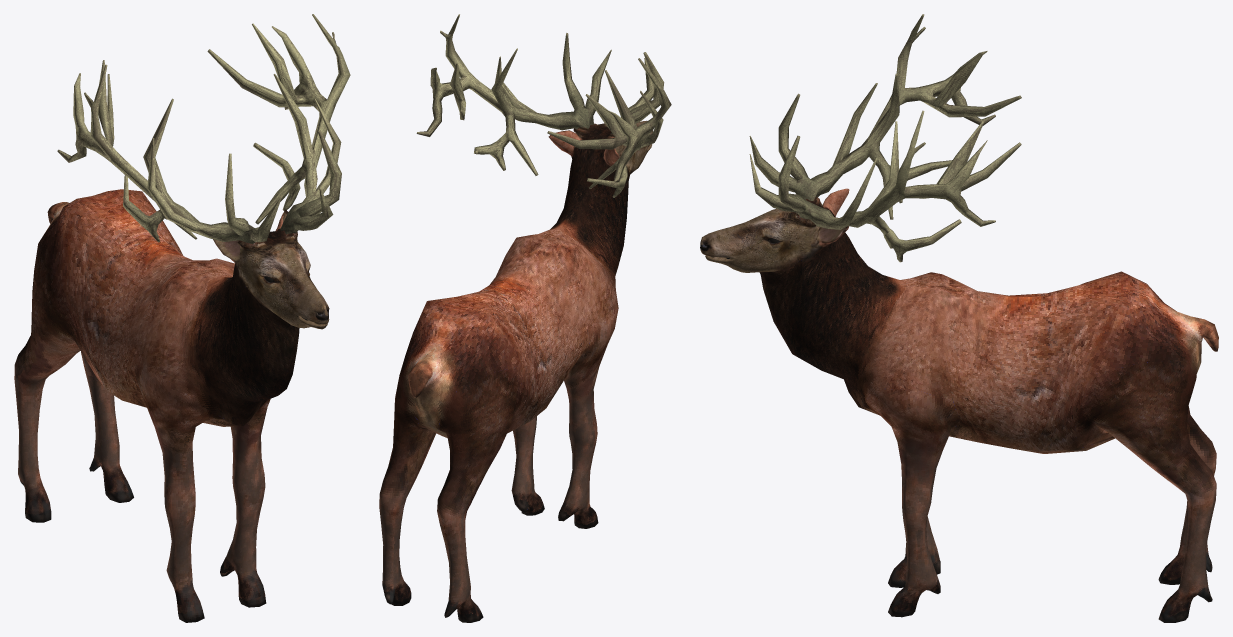
File: natural-stag-clear.glb
The picture shows the model from 3 angles, left to right: view 1: azimuth 30°, elevation 25°; view 2: azimuth 150°, elevation 25°; view 3: azimuth 270°, elevation 25°; orthographic projection. The views are drawn at different scales.
Parts seen in each view (by area): view 1: natural-stag-clear runtime mesh; view 2: natural-stag-clear runtime mesh; view 3: natural-stag-clear runtime mesh.
Part boxes in pixels (x1,y1,x2,y2): natural-stag-clear runtime mesh: (14,14,350,622); natural-stag-clear runtime mesh: (379,14,671,622); natural-stag-clear runtime mesh: (700,14,1218,622).
Bounding box in the file's own units: 0.9247 × 1.95 × 1.71.
Materials: 4 (3 with a texture image).
